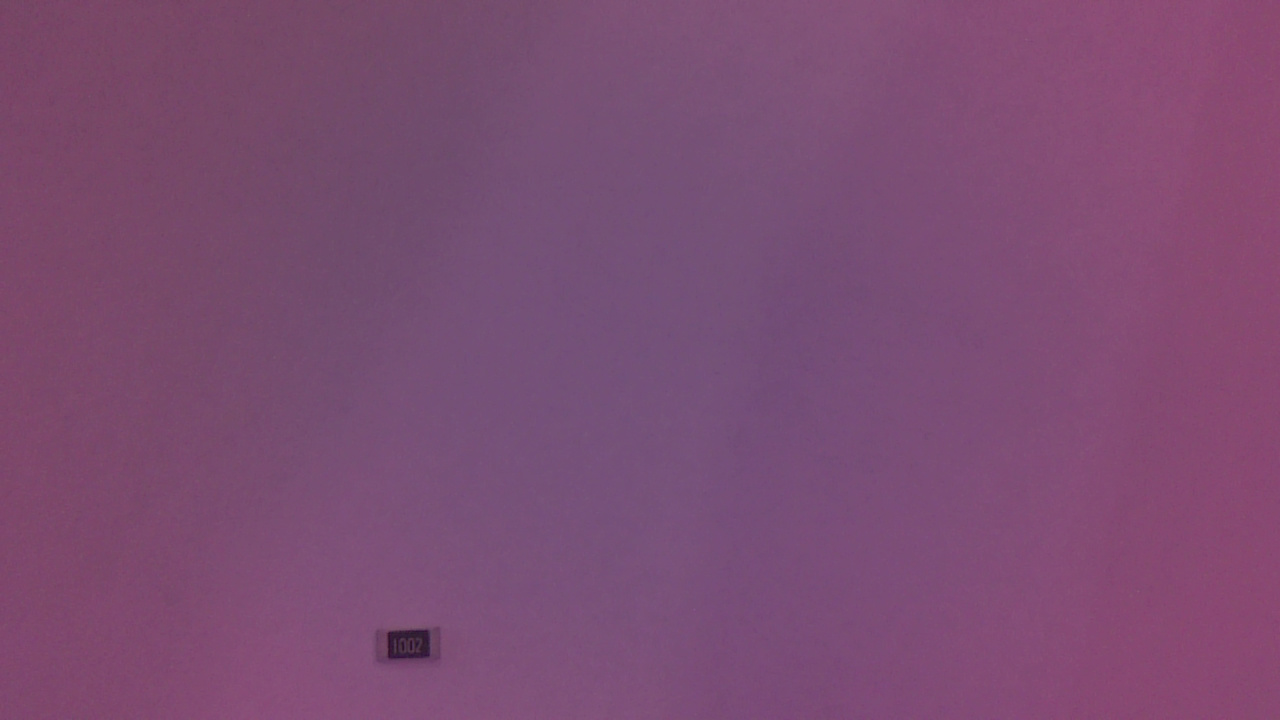Resistor: (370, 620, 451, 676)
